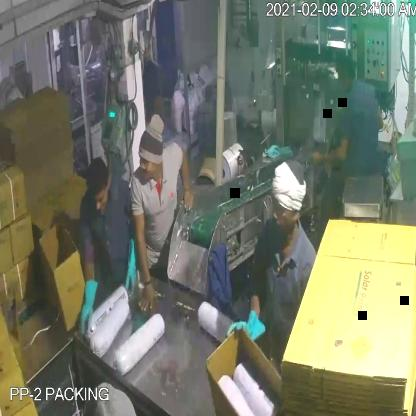glove: (74, 265, 104, 344), (225, 312, 266, 354), (120, 230, 141, 295)
no_glove: (127, 204, 161, 319), (311, 124, 350, 170), (176, 137, 194, 211)
